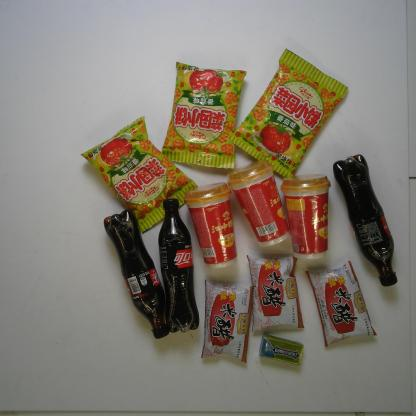Drink: (332, 154, 398, 287), (103, 209, 170, 339), (157, 198, 200, 333)
Gum: (258, 334, 304, 366)
Instant Drink: (226, 158, 291, 248), (183, 181, 239, 270), (280, 173, 331, 260)
Puffed Food: (229, 48, 349, 177), (80, 116, 198, 233), (161, 62, 247, 171)
Seasoner: (305, 260, 377, 348), (246, 254, 305, 332), (201, 279, 254, 363)
